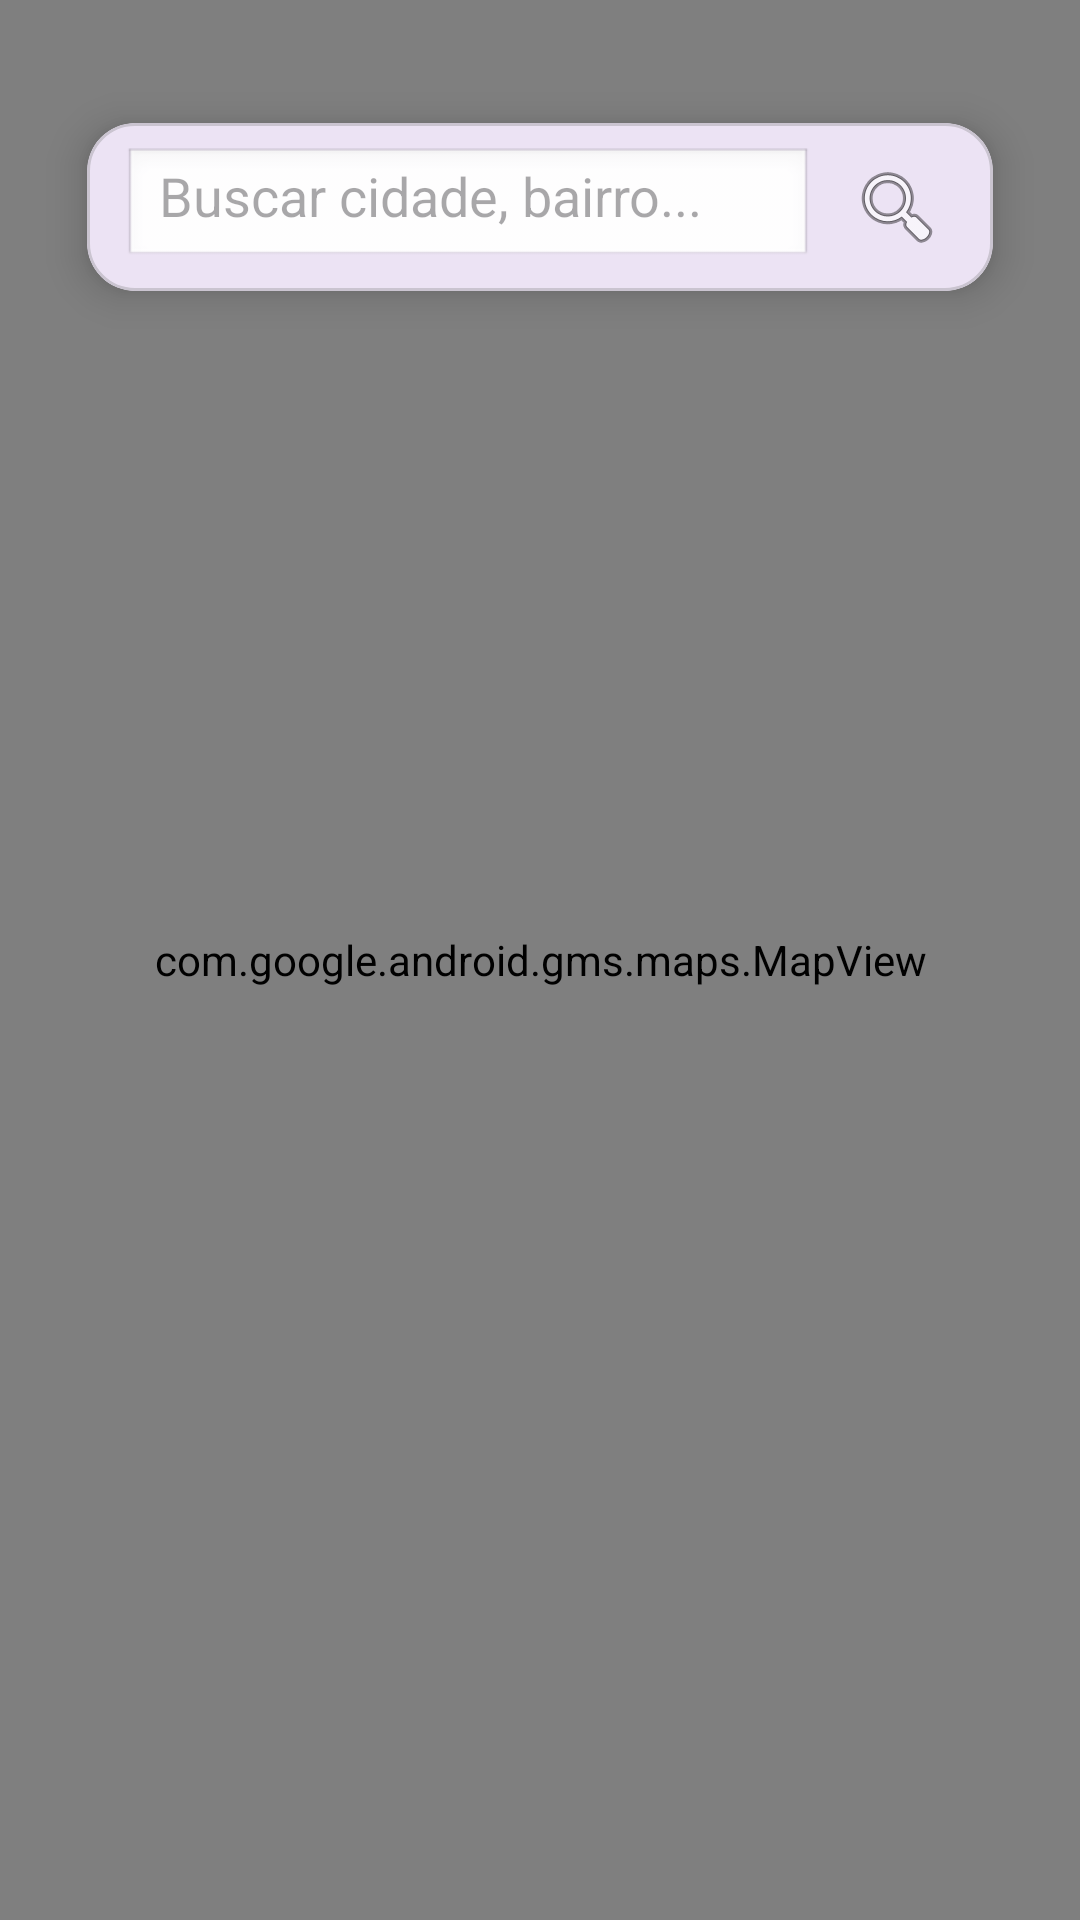

Named icons in this screenshot (1080w x 1920h) and their bounding boxes, (x1, y1, x2, y2):
Pesquisar: (861, 172, 933, 243)
